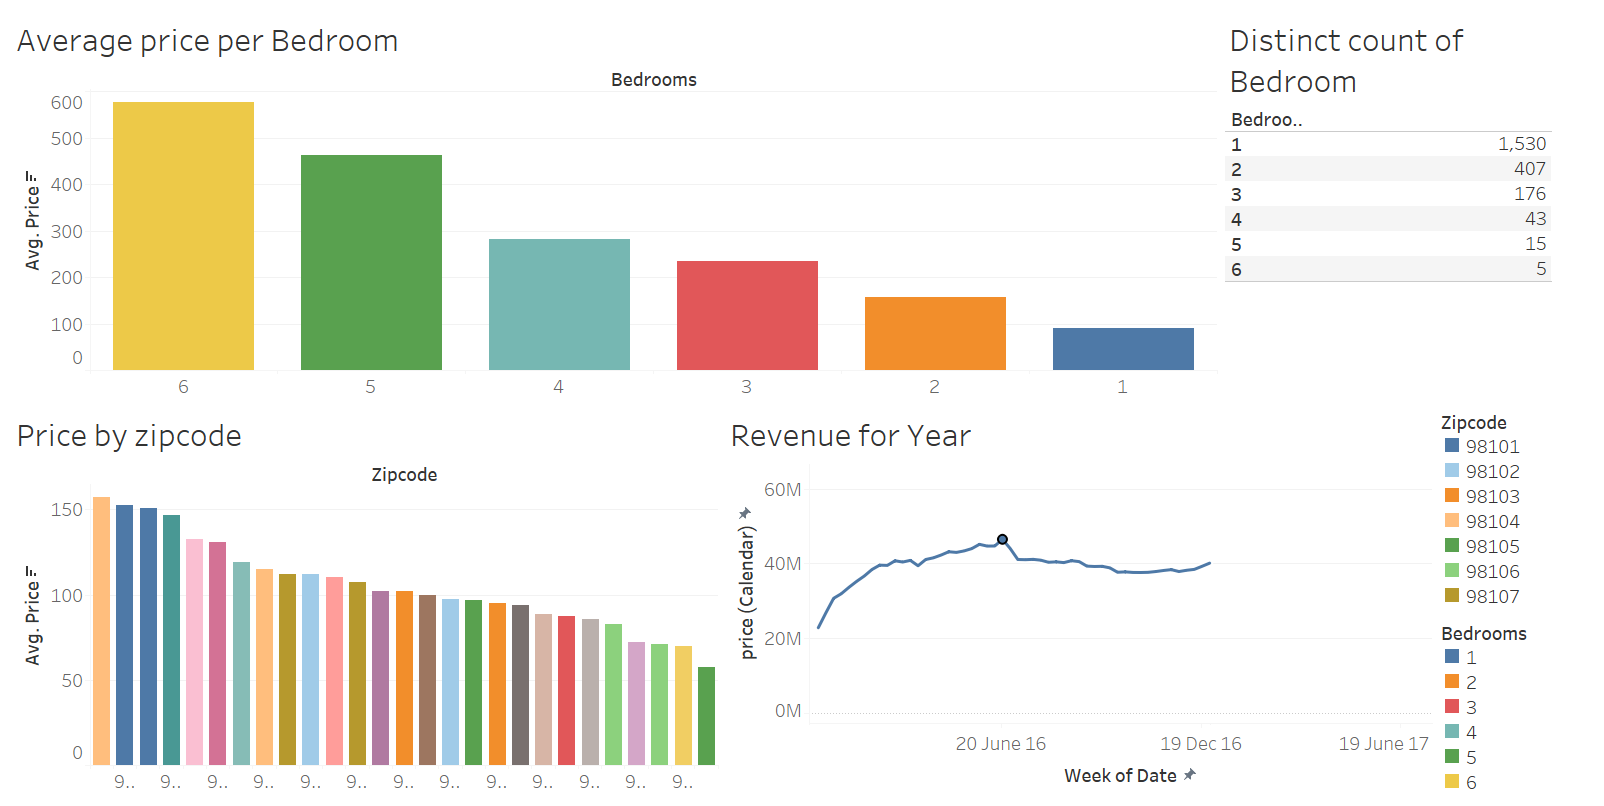

The page's visual inventory and layout, read from the dashboard file:
{"tool":"tableau","page":{"name":"Dashboard 1","canvas":[1000,1000],"units":"permille","ordinal":0},"visuals":[{"type":"worksheet","title":"Sheet 5","mark":"Automatic","rows":["price"],"cols":["bedrooms"],"box":[5,9.9,756.2,490.1]},{"type":"worksheet","title":"Sheet 6","mark":"Automatic","rows":["bedrooms"],"box":[761.2,9.9,233.8,490.1]},{"type":"worksheet","title":"Sheet 3","mark":"Automatic","rows":["price"],"cols":["zipcode"],"box":[5,500,445.1,490.1]},{"type":"worksheet","title":"Sheet 4","mark":"Automatic","rows":["price (Calendar)"],"cols":["date"],"box":[450.1,500,445.1,490.1]},{"type":"legend","title":"Sheet 3","param":"[federated.0z8d1sk1x0gzgr11ptbym0rqn6s4].[none:zipcode:ok]","box":[895.3,500,99.8,261.8]},{"type":"legend","title":"Sheet 5","param":"[federated.0z8d1sk1x0gzgr11ptbym0rqn6s4].[none:bedrooms:ok]","box":[895.3,761.8,99.8,228.3]}]}

Visuals, with their boxes on the dashboard's canvas, which has no fixed pixel size, in thousandths of its width and height (x1, y1, x2, y2). These are canvas units, not pixel positions in the 1604x806 screenshot, which may show the page scaled, cropped or inside an application window:
"Sheet 5" worksheet: bbox=(5, 10, 761, 500)
"Sheet 6" worksheet: bbox=(761, 10, 995, 500)
"Sheet 3" worksheet: bbox=(5, 500, 450, 990)
"Sheet 4" worksheet: bbox=(450, 500, 895, 990)
"Sheet 3" legend: bbox=(895, 500, 995, 762)
"Sheet 5" legend: bbox=(895, 762, 995, 990)
